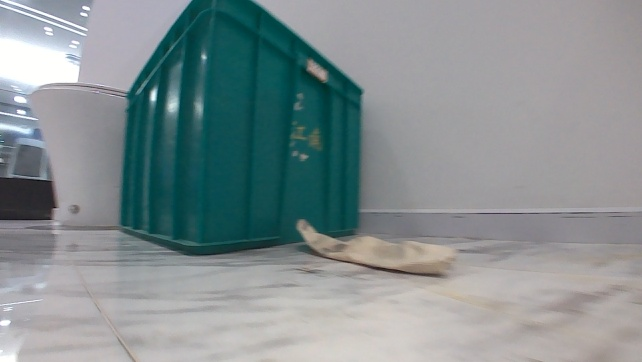socks: (292, 216, 463, 281)
toilet: (25, 78, 128, 229)
